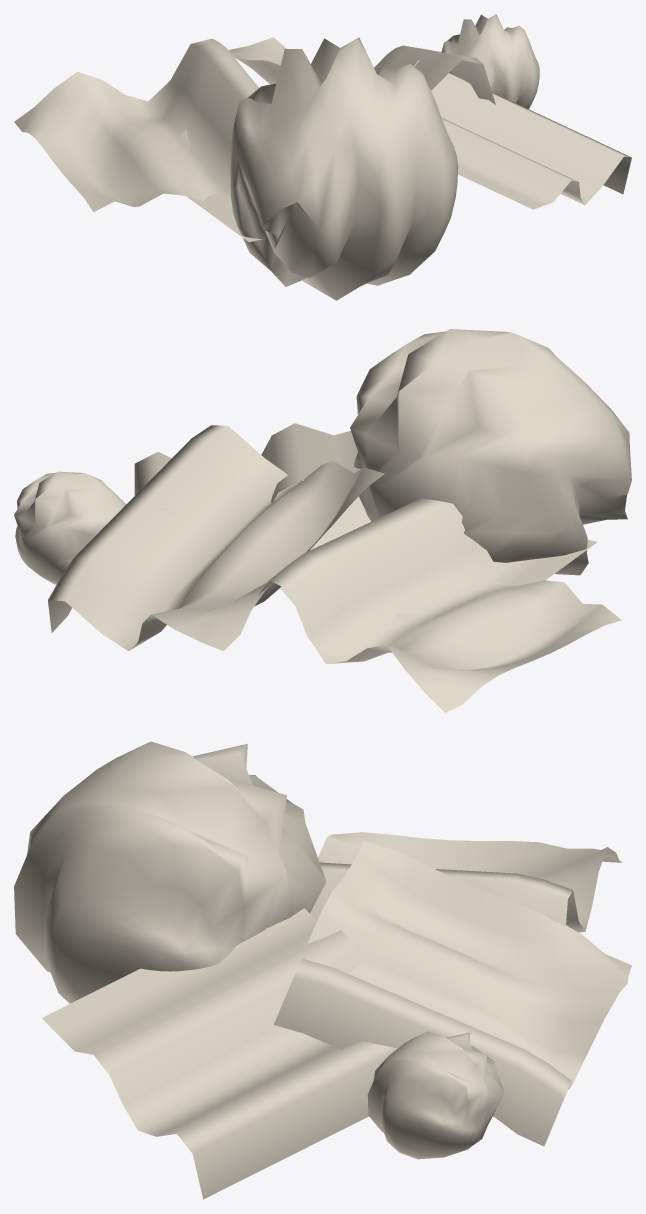
Rendered from Papers_placehold.fbx.
3 renders of one model, top to bottom at view 1: azimuth 30°, elevation 25°; view 2: azimuth 150°, elevation 25°; view 3: azimuth 270°, elevation 25°, orthographic. The views are drawn at different scales.
Visible parts, largest first — view 1: pSphere4; view 2: pSphere4; view 3: pSphere4.
Part boxes in pixels (left/top/right/bottom): pSphere4: left=14, top=14, right=631, bottom=300; pSphere4: left=14, top=329, right=631, bottom=712; pSphere4: left=14, top=741, right=631, bottom=1199.
Size of the model in its own units: 4.79 by 2.15 by 4.28.
